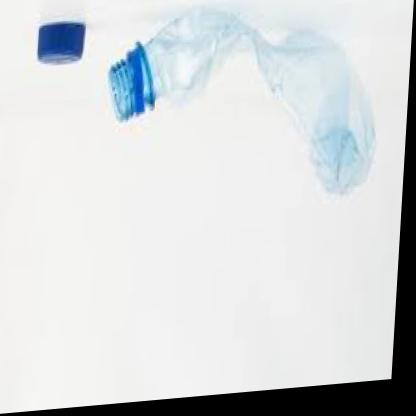Plastic: (82, 0, 392, 234)
